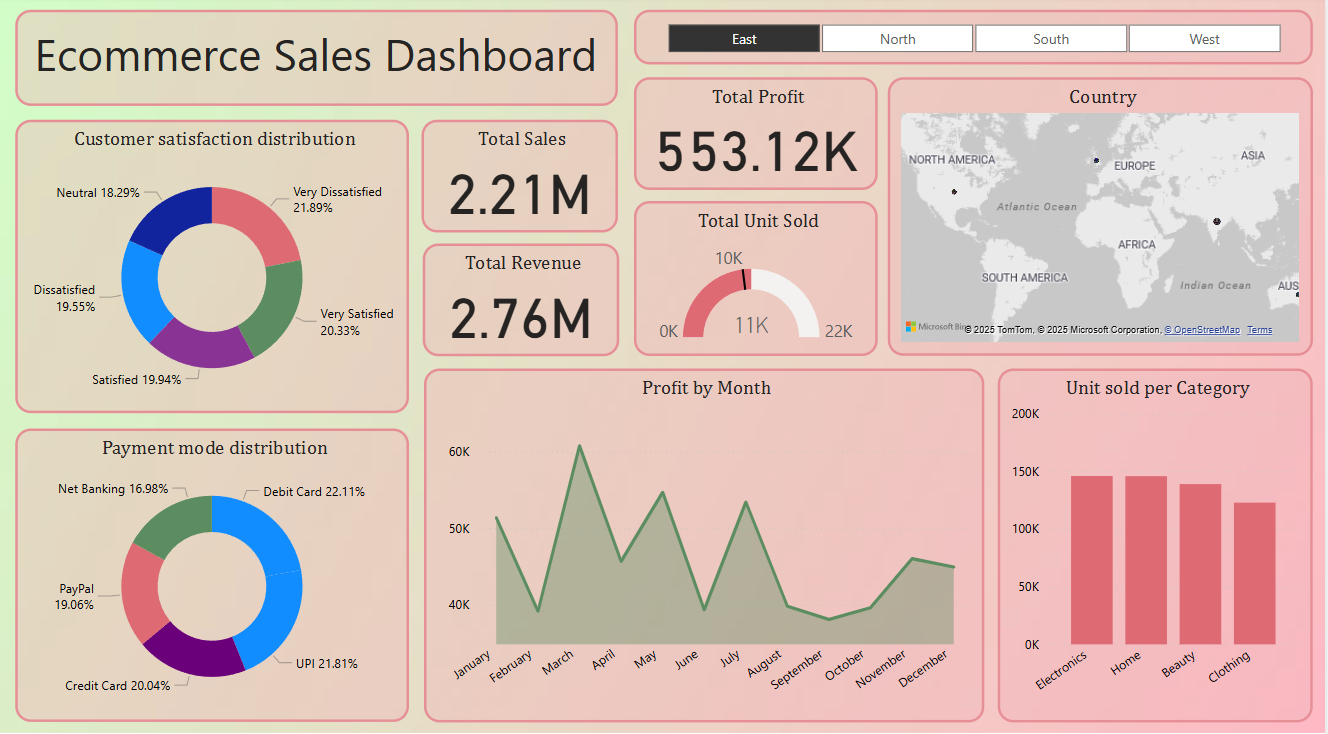

What the dashboard file says about the page in this screenshot:
{"tool":"powerbi","page":{"name":"Page 1","canvas":[1280,720],"ordinal":0},"visuals":[{"type":"donutChart","title":"Payment mode distribution","fields":{"Category":["ecommerce_order_data.Payment mode"],"Y":["Sum(ecommerce_order_data.Total Revenue)"]},"box":[15.7,417.4,380,283.5],"z":0},{"type":"areaChart","title":"Profit by Month","fields":{"Category":["ecommerce_order_data.Order date.Variation.Date Hierarchy.Month"],"Y":["Sum(ecommerce_order_data.Profit)"]},"box":[410.2,359.5,540.5,341.4],"z":1000},{"type":"donutChart","title":"Customer satisfaction distribution","fields":{"Category":["ecommerce_order_data.Customer satisfaction"],"Y":["CountNonNull(ecommerce_order_data.Customer ID)"]},"box":[15.7,119.4,380,283.5],"z":2000},{"type":"slicer","fields":{"Values":["ecommerce_order_data.Region"]},"box":[612.9,13.3,655.1,53.1],"z":3000},{"type":"card","title":"Total Profit","fields":{"Values":["Sum(ecommerce_order_data.Profit)"]},"box":[612.9,78.4,235.3,108.6],"z":4000},{"type":"card","title":"Total Revenue","fields":{"Values":["Sum(ecommerce_order_data.Total Revenue)"]},"box":[409,238.9,189.4,108.6],"z":5000},{"type":"card","title":"Total Sales","fields":{"Values":["Sum(ecommerce_order_data.Total Cost)"]},"box":[407.8,119.4,189.4,108.6],"z":6000},{"type":"textbox","box":[15.7,13.3,581.5,92.9],"z":7000},{"type":"gauge","title":"Total Unit Sold","fields":{"Y":["Sum(ecommerce_order_data.Unit sold)"],"TargetValue":["ecommerce_order_data.Target"]},"box":[612.9,197.9,235.3,149.6],"z":8000},{"type":"clusteredColumnChart","title":"Unit sold per Category","fields":{"Category":["ecommerce_order_data.Product category"],"Y":["Sum(ecommerce_order_data.Profit)"]},"box":[963.9,359.5,304,341.4],"z":9000},{"type":"map","title":"Country","fields":{"Category":["ecommerce_order_data.Country"],"Series":["ecommerce_order_data.Profit"]},"box":[857.8,78.4,410.2,269],"z":10000}]}

Visuals, with their boxes in screenshot pixels (x1, y1, x2, y2), scaled from the page's 1280x720 canvas onto the 1328x734 screenshot:
"Payment mode distribution" donutChart: <bbox>16, 426, 411, 715</bbox>
"Profit by Month" areaChart: <bbox>426, 366, 986, 715</bbox>
"Customer satisfaction distribution" donutChart: <bbox>16, 122, 411, 411</bbox>
slicer - ecommerce_order_data.Region: <bbox>636, 14, 1316, 68</bbox>
"Total Profit" card: <bbox>636, 80, 880, 191</bbox>
"Total Revenue" card: <bbox>424, 244, 621, 354</bbox>
"Total Sales" card: <bbox>423, 122, 620, 232</bbox>
textbox: <bbox>16, 14, 620, 108</bbox>
"Total Unit Sold" gauge: <bbox>636, 202, 880, 354</bbox>
"Unit sold per Category" clusteredColumnChart: <bbox>1000, 366, 1315, 715</bbox>
"Country" map: <bbox>890, 80, 1316, 354</bbox>
